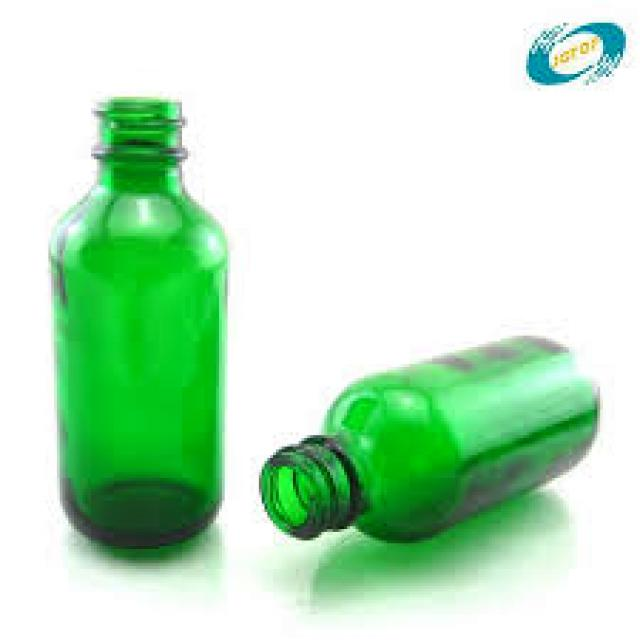Glass: (45, 93, 226, 554), (255, 332, 603, 550)
